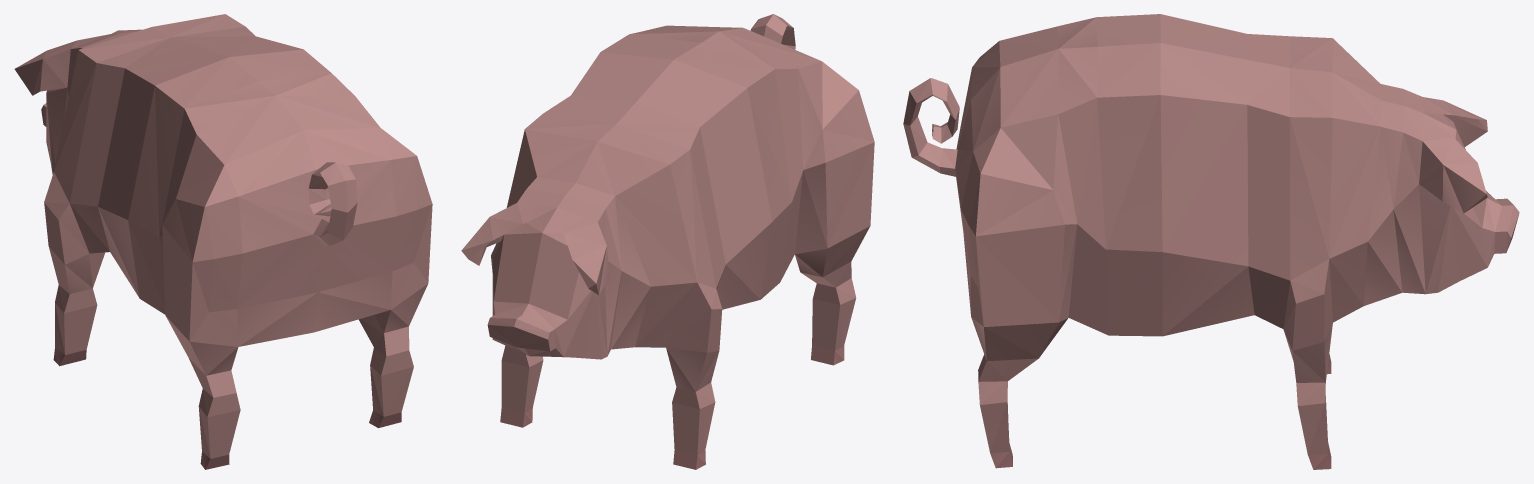
The model's file is animal_pig.glb.
The picture shows the model from 3 angles, left to right: view 1: azimuth 30°, elevation 25°; view 2: azimuth 150°, elevation 25°; view 3: azimuth 270°, elevation 25°; orthographic projection. The views are drawn at different scales.
Visible parts, largest first — view 1: Pig; view 2: Pig; view 3: Pig.
Boxes of the visible parts, x1=… form: Pig: x1=14, y1=14, x2=432, y2=469; Pig: x1=461, y1=14, x2=874, y2=469; Pig: x1=903, y1=14, x2=1519, y2=469.
Bounding box in the file's own units: 0.6 × 0.8 × 1.2.
